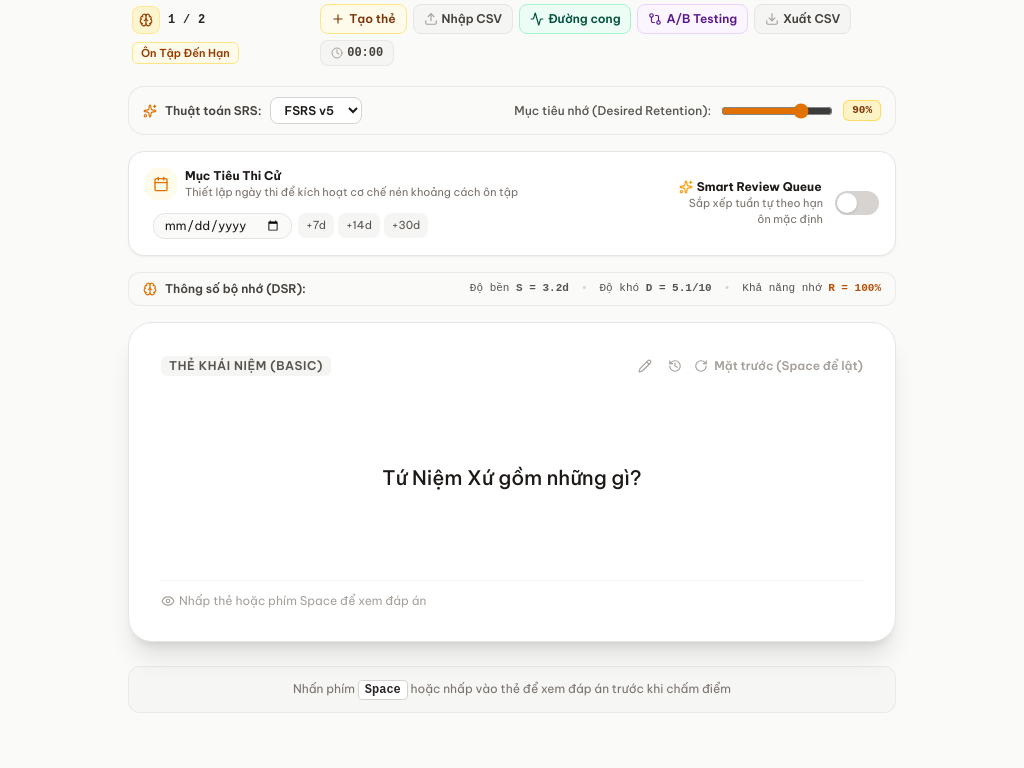
it: FlashcardReviewStudio Integration Tests (Gherkin Scenarios 1-10) › Scenario 2: Lật thẻ để xem mặt sau bằng click chuột
# Click vào thẻ
Click the button with test id "flashcard-card".
click(512, 622)  # box [128,322,896,642]
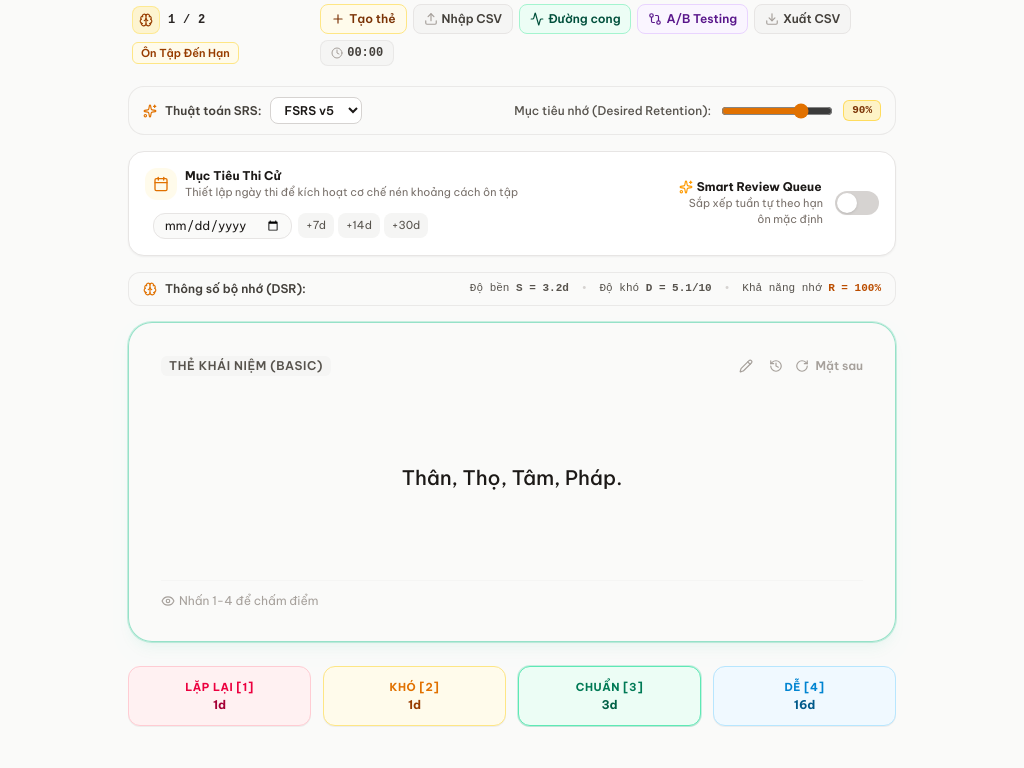
Expected: the text "Thân, Thọ, Tâm, Pháp." is shown, [402,465,622,490]
